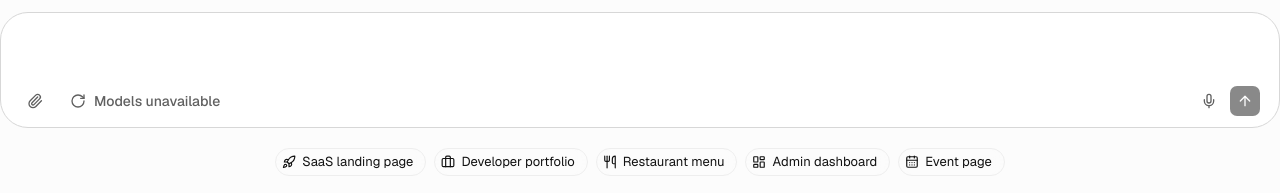
Test: NewProjectPrompt › offers a retry when the model list fails
The width and height of the screenshot is (1280, 193).
Click the button "Models unavailable" at (145, 101), box [55,83,235,119]
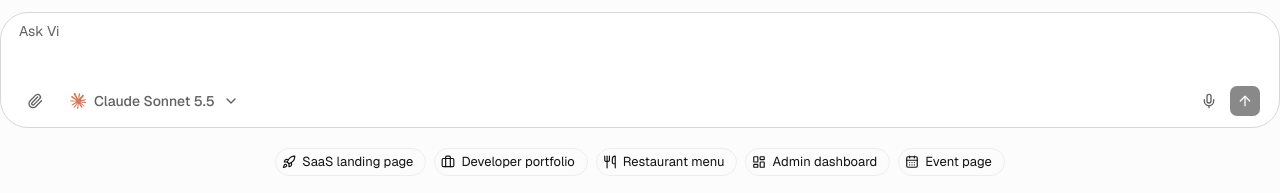
Expected: the button with aria-label "Model: Claude Sonnet 5.5. Change model" is shown, [55,83,254,119]
